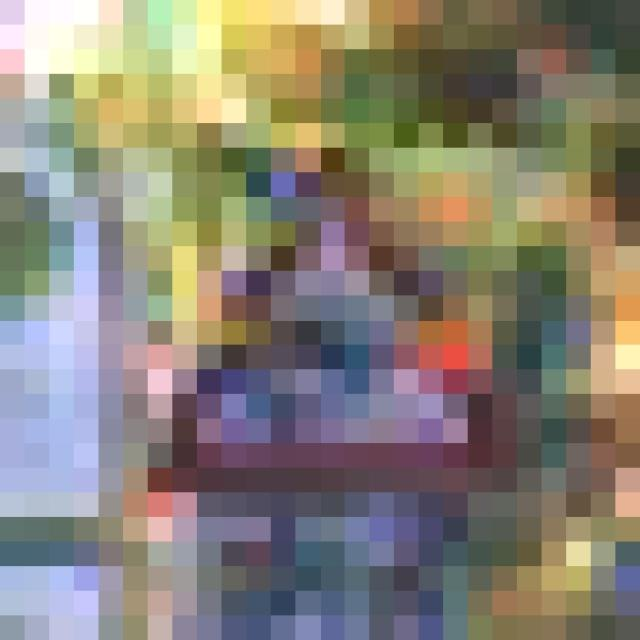Slippery Road Ahead: (99, 123, 542, 517)
